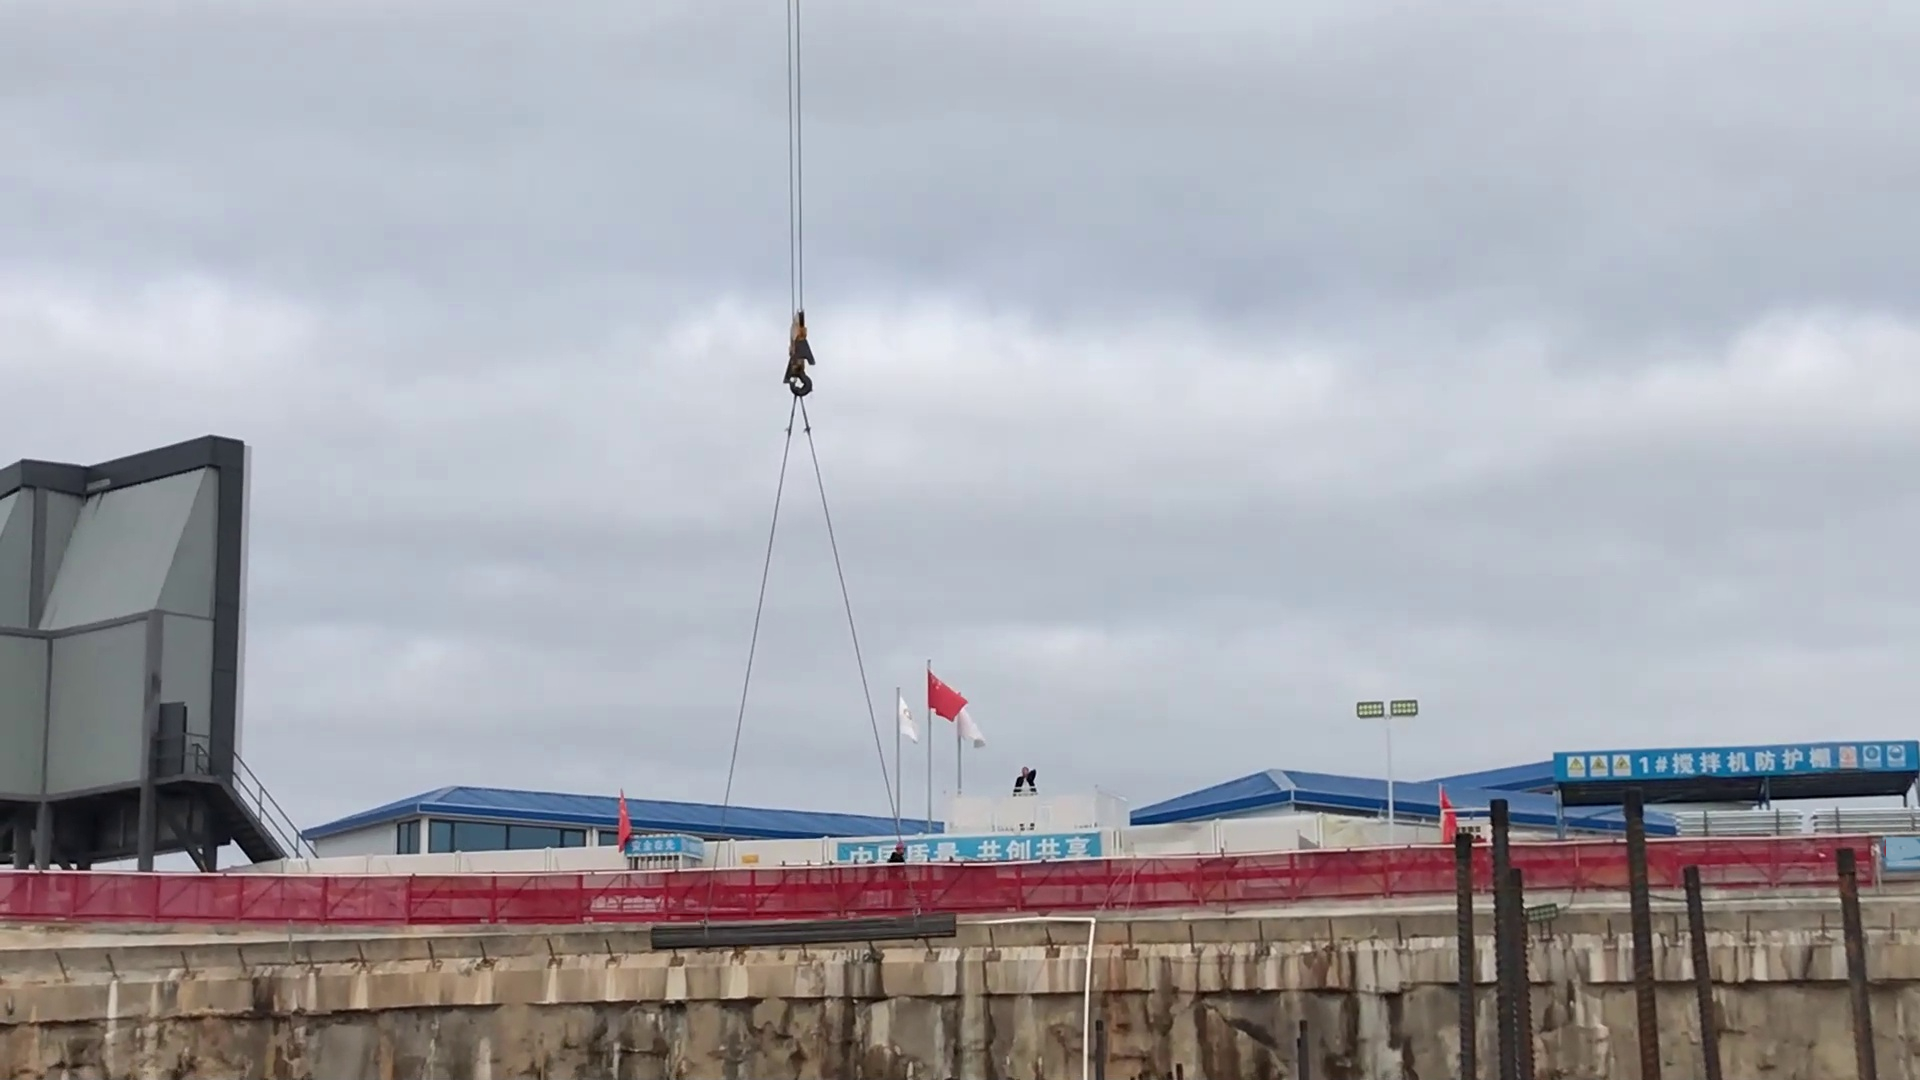fence: (1, 822, 1896, 936)
hook: (774, 295, 824, 400)
rebar: (640, 907, 965, 957)
slogan: (843, 825, 1105, 866)
